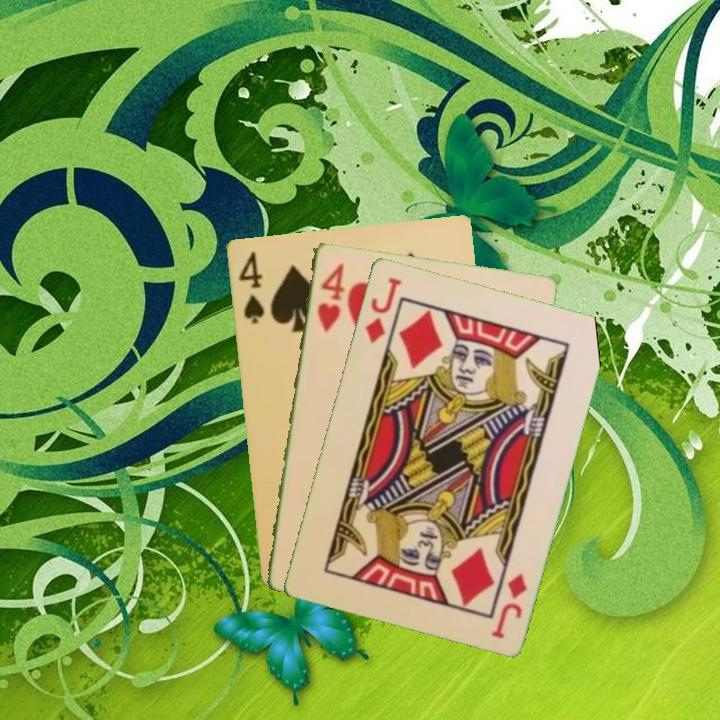4h: (313, 259, 346, 336)
4s: (234, 247, 267, 326)
Jd: (361, 273, 404, 346), (487, 569, 530, 641)
